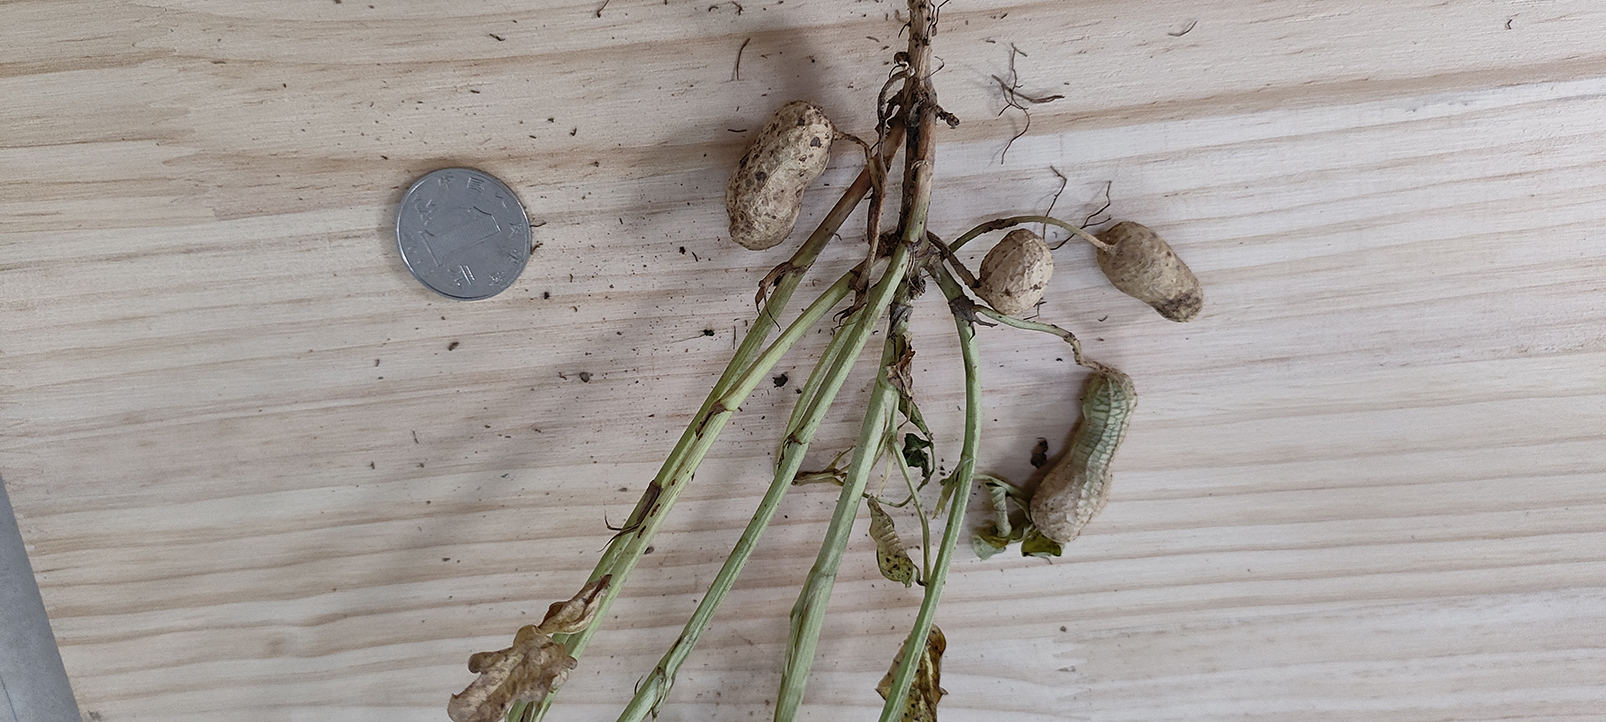h: (1033, 366, 1140, 547), (724, 99, 831, 251), (1099, 218, 1204, 321), (977, 227, 1053, 318)
